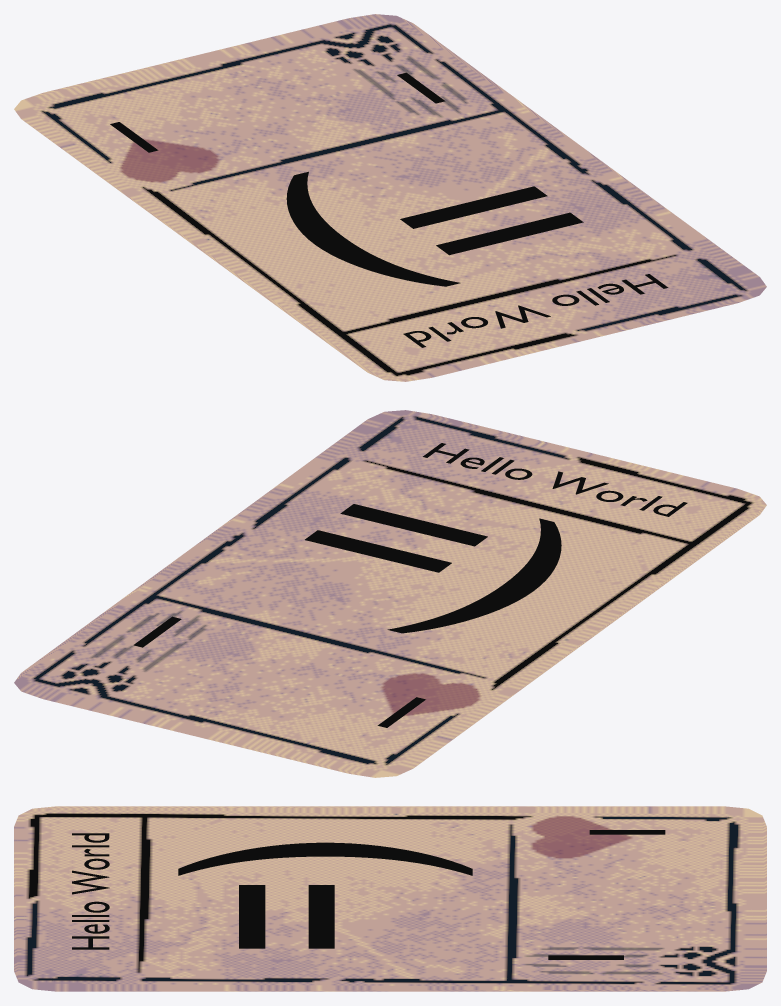
File: Hello World.glb
3 renders of one model, top to bottom at view 1: azimuth 30°, elevation 25°; view 2: azimuth 150°, elevation 25°; view 3: azimuth 270°, elevation 25°, orthographic. The views are drawn at different scales.
Visible parts, largest first — view 1: Hello World; view 2: Hello World; view 3: Hello World.
Boxes of the visible parts, bbox=[...] form: Hello World: bbox=[14, 14, 766, 381]; Hello World: bbox=[14, 410, 766, 777]; Hello World: bbox=[14, 806, 766, 991].
Size of what is drawn, in the model's own units: 44.93 by 0.5266 by 77.22.
3 materials, 1 textured.
